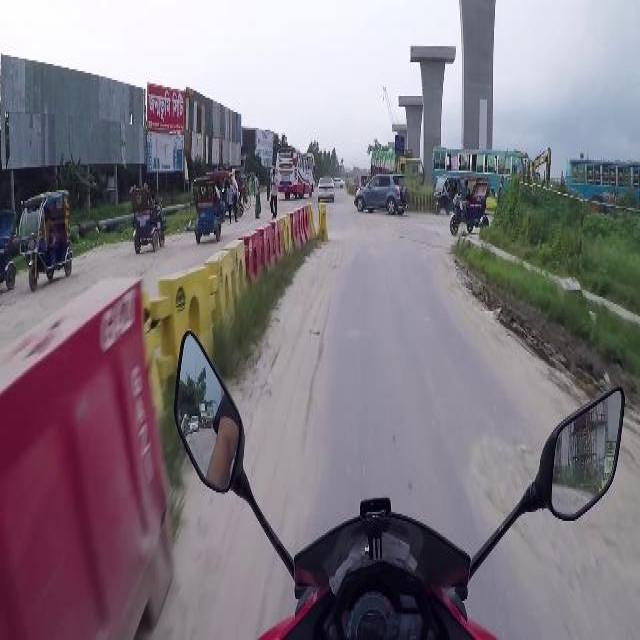bike: (174, 335, 627, 639)
vehicle: (20, 188, 74, 290), (433, 146, 530, 201), (566, 157, 640, 212), (130, 182, 165, 250), (354, 174, 410, 216), (276, 144, 316, 199), (451, 178, 489, 233), (194, 174, 223, 244), (371, 150, 425, 186), (215, 171, 243, 219), (3, 209, 18, 291), (434, 175, 463, 216), (319, 175, 335, 200), (333, 176, 345, 189)
